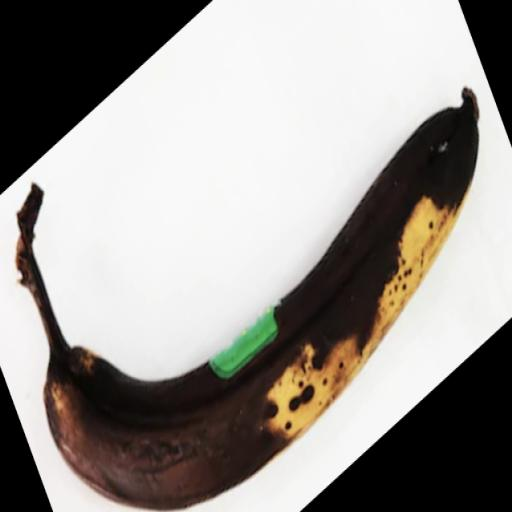banana-overripe: (0, 58, 490, 499)
